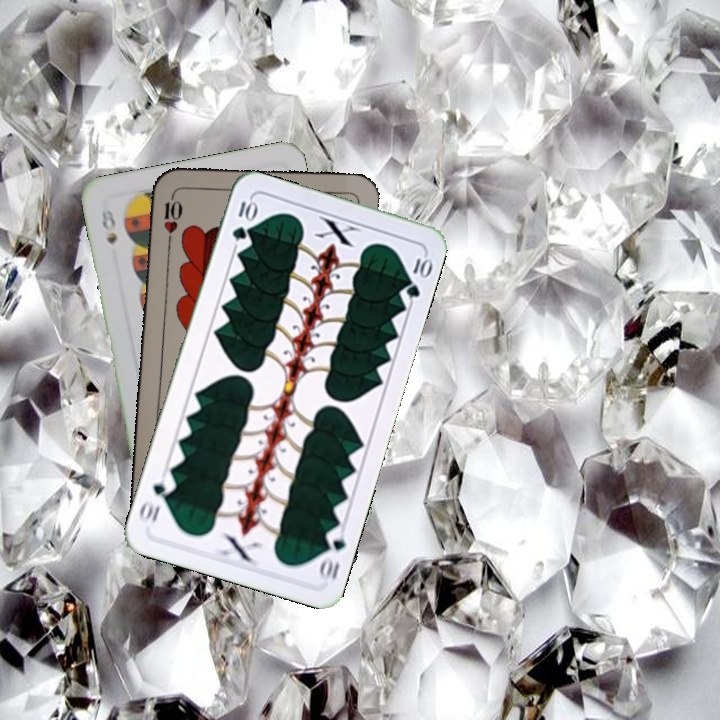G10: (315, 523, 348, 583), (228, 195, 258, 243)
H10: (159, 188, 184, 247)
S8: (97, 205, 120, 247)
